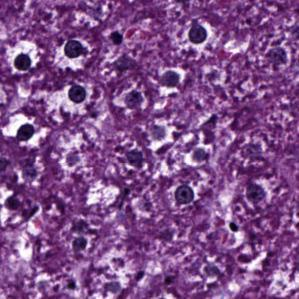inflammation: (5, 112, 48, 153), (49, 82, 94, 119), (7, 38, 44, 76), (149, 64, 190, 96), (57, 38, 91, 71), (172, 176, 198, 209)
